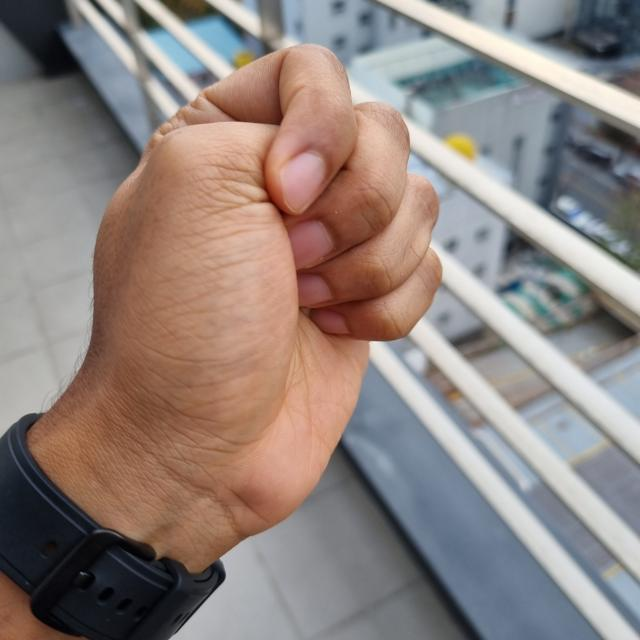Rock: (58, 45, 441, 543)
